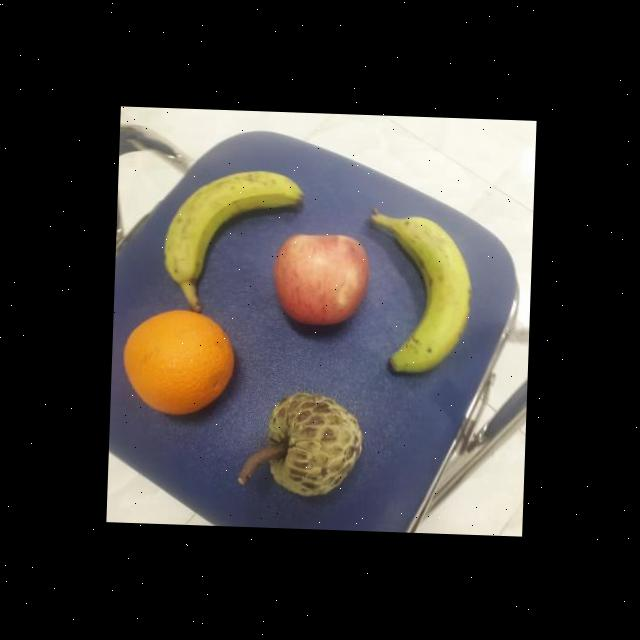Sakya fruit: (262, 388, 362, 496)
apple: (269, 229, 375, 327)
banana: (160, 162, 306, 296), (364, 208, 474, 375)
orange: (119, 305, 238, 419)
